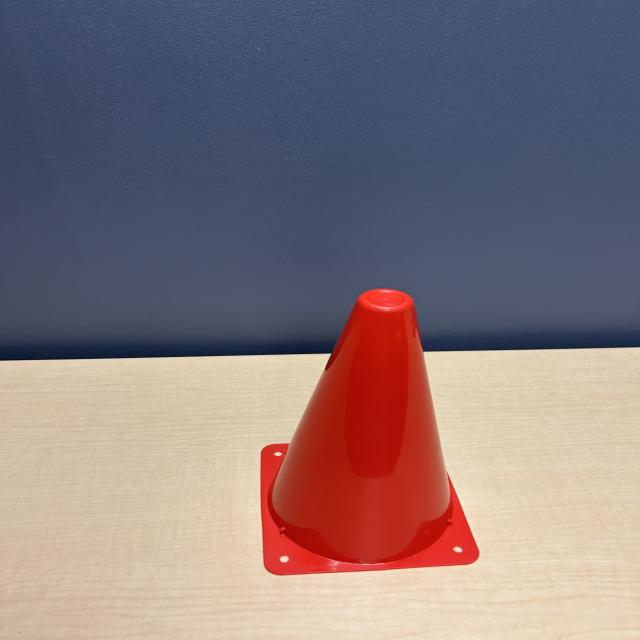orange cone: (238, 284, 489, 576)
